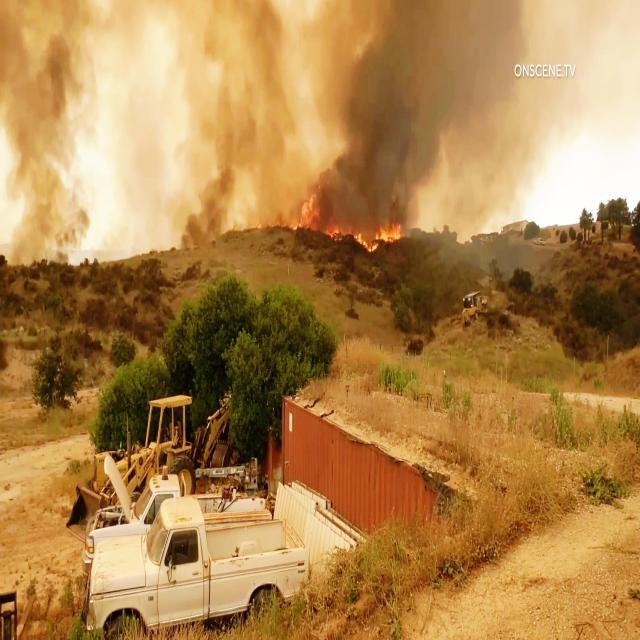Fire: (290, 203, 323, 238), (378, 222, 406, 247)
Smoke: (334, 5, 407, 212), (10, 51, 80, 226)
